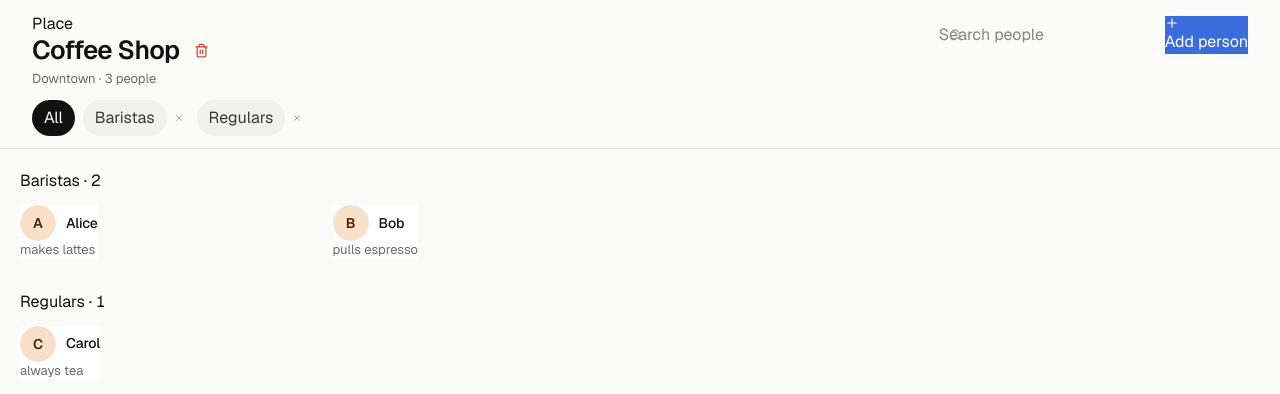
Test: LocationDetailContent › filters the visible people by the search query
Type "Alice" into the field with placeholder "Search people" at x=1048, y=35, box [939, 23, 1157, 47]
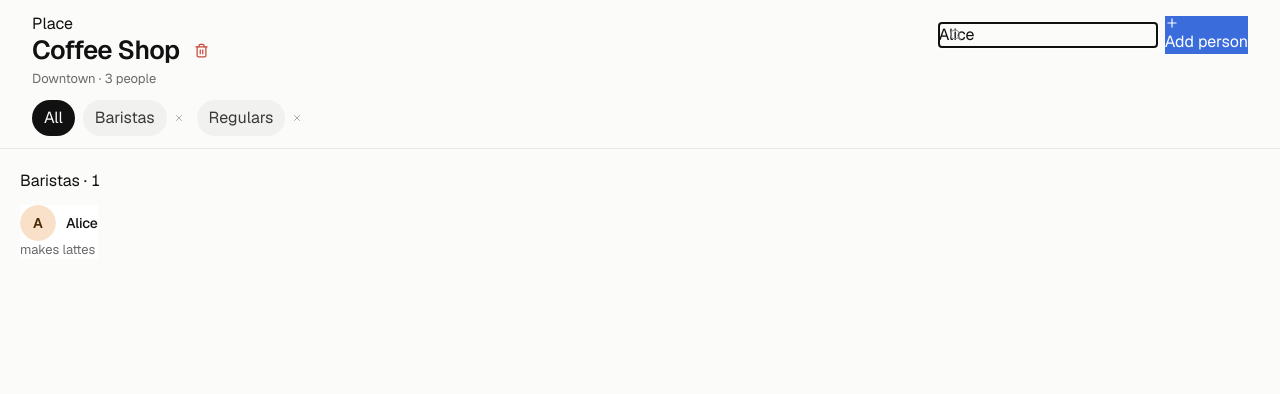
Expected: the text "Alice" is shown, [66, 213, 98, 234]
Expected: the button "Bob" is gone
Expected: the button "Carol" is gone
